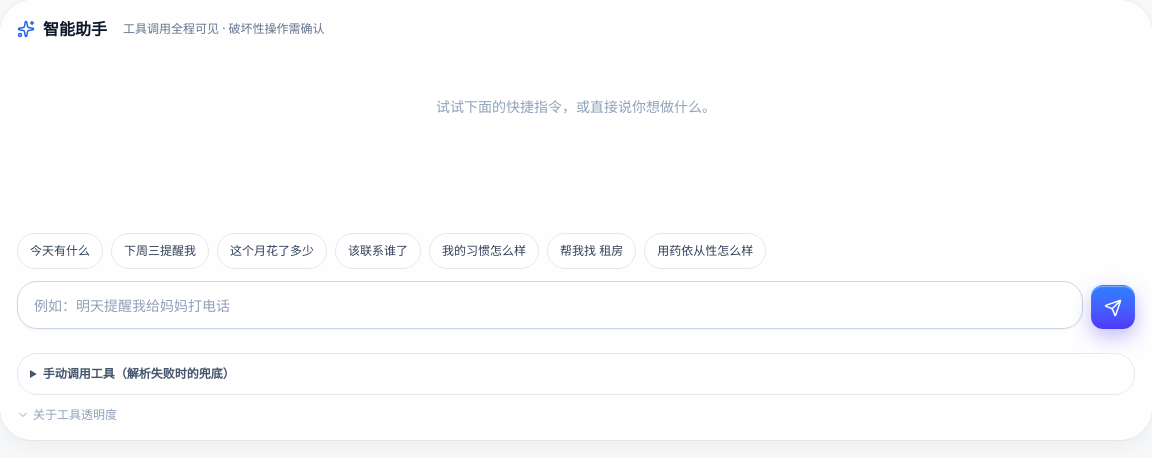
Test: AssistantPanel (checkbox 109) › asks a clarifying question (never a raw error) when the utterance is not executable
Type "随便说点什么" into the field with test id "assistant-input".
click(550, 305); type("随便说点什么")  # box x1=17 y1=281 x2=1083 y2=329
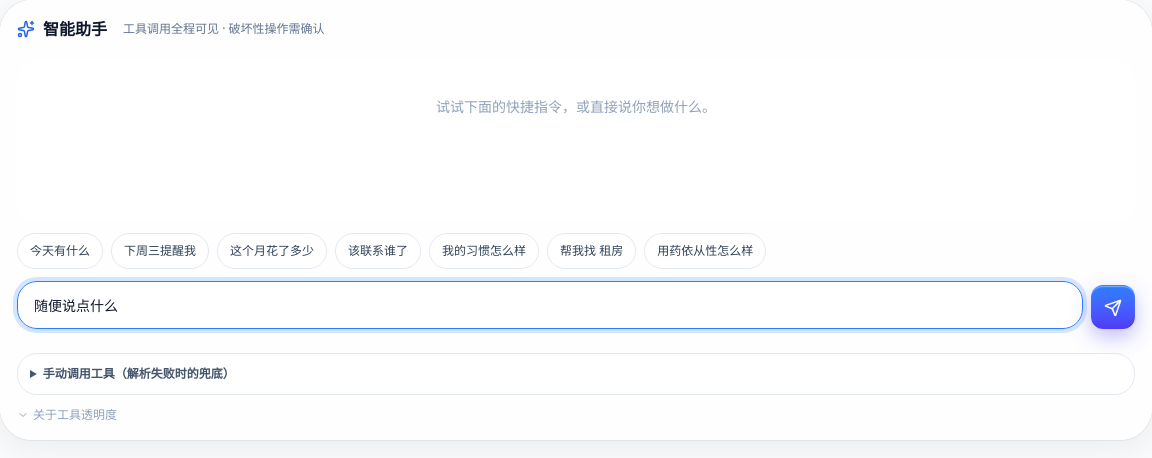
Click the button with test id "assistant-submit".
click(1113, 307)  # box x1=1091 y1=285 x2=1135 y2=329
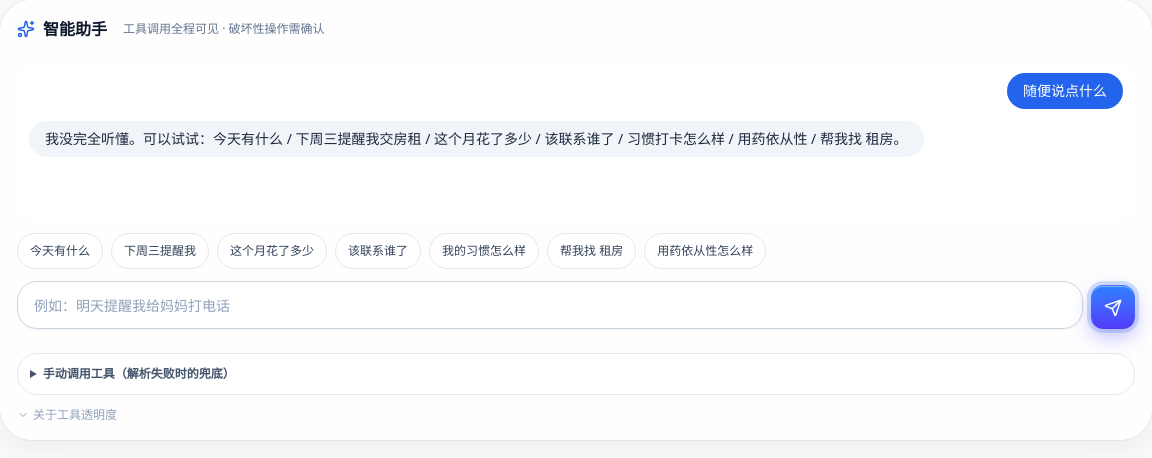
Expected: the text "我没完全听懂" is shown, x1=45 y1=129 x2=908 y2=148
